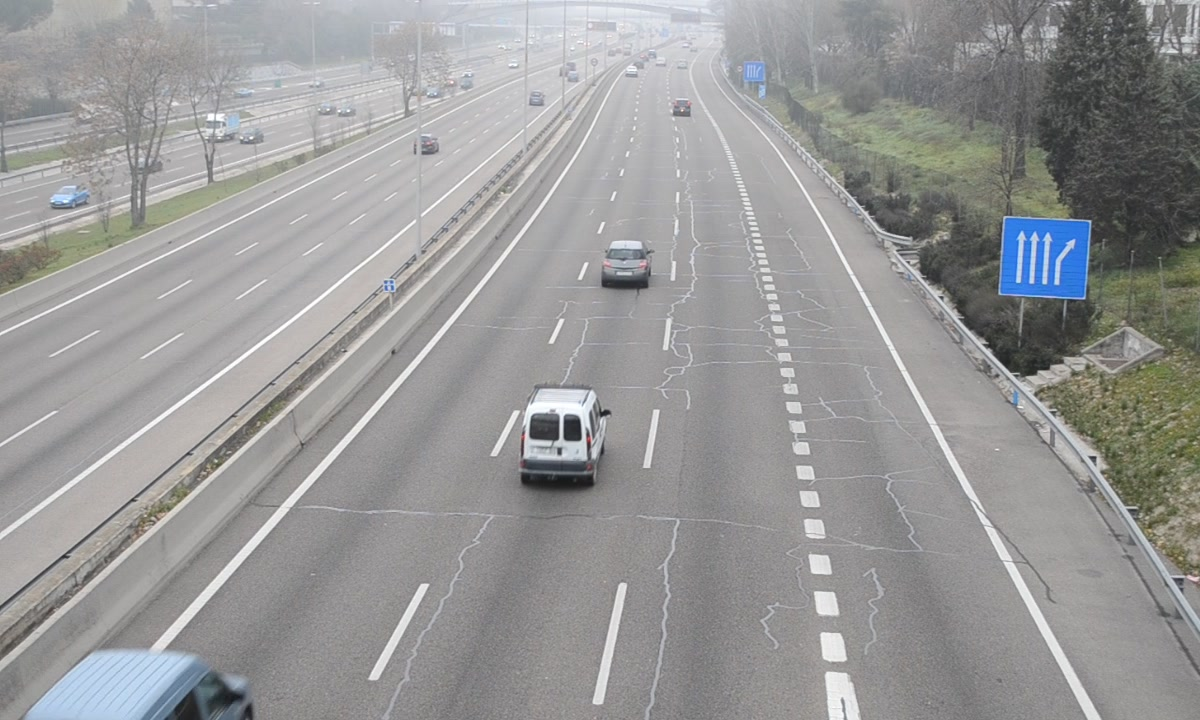car: (602, 240, 651, 286)
van: (519, 388, 608, 481)
